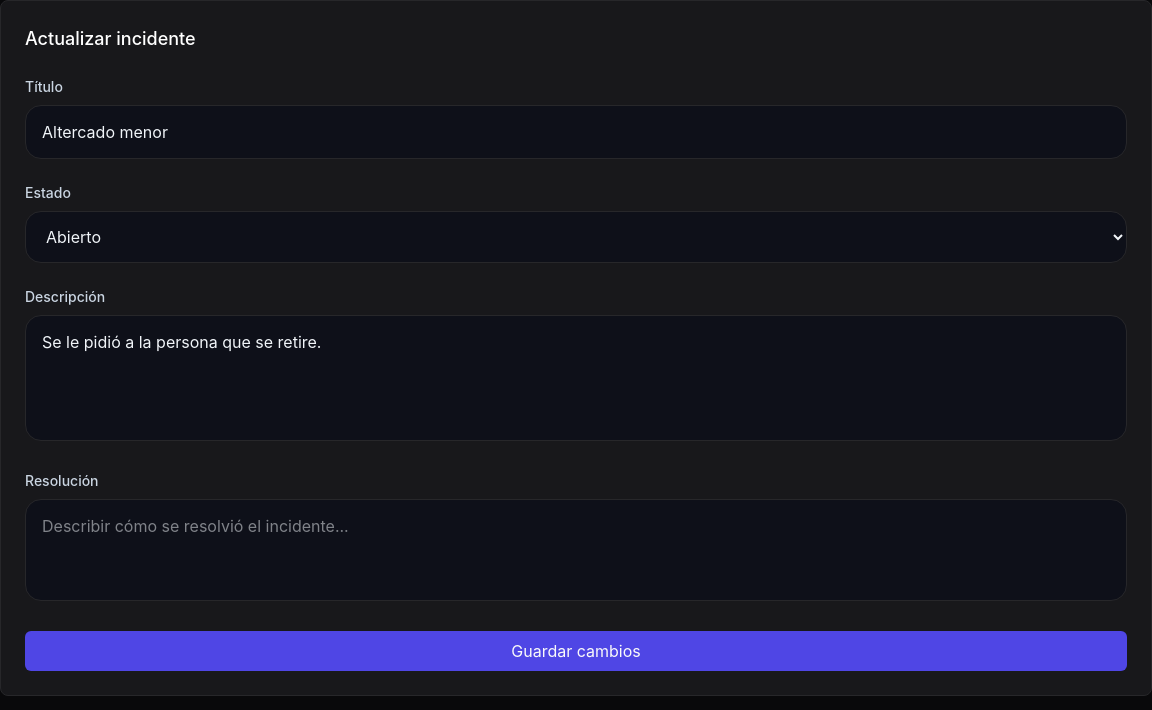
Test: VenueIncidentForm — editing an existing incident › shows an error message on failed update
Click the button "Guardar cambios": (576, 651) [25,631,1127,671]
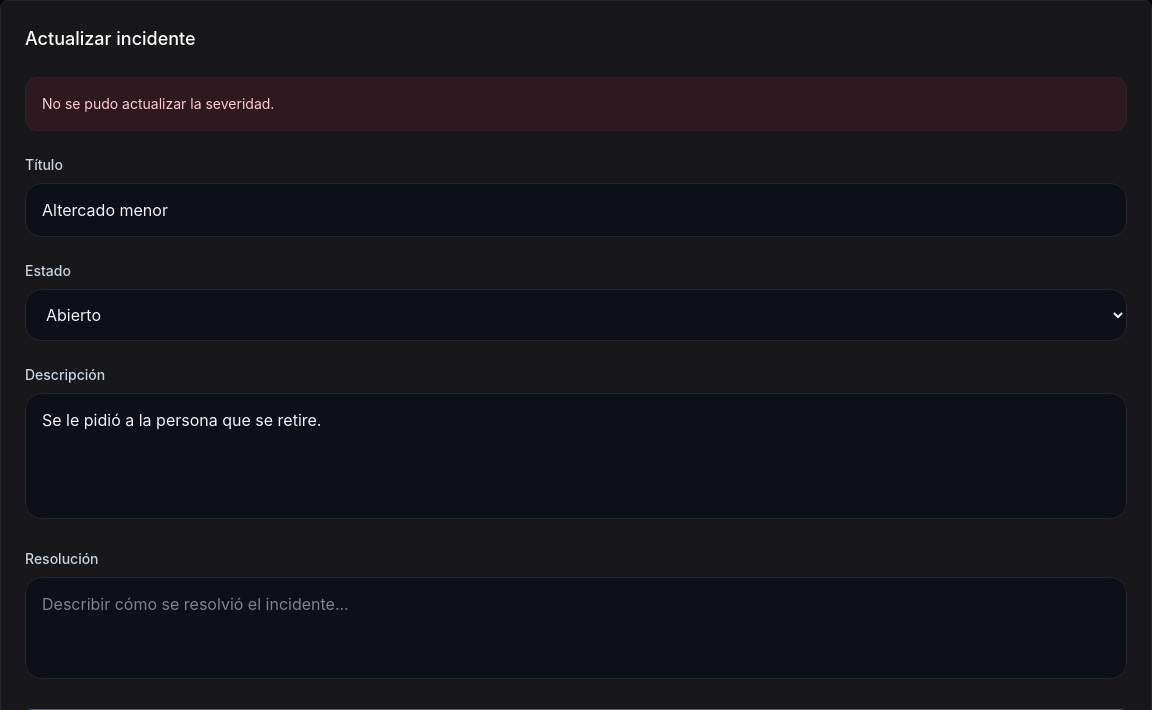
Now the text "No se pudo actualizar la severidad." is shown, box [25,77,1127,131]
